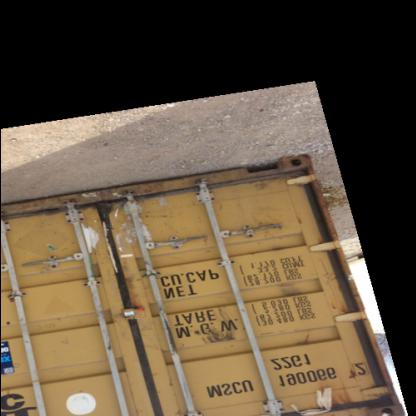Damage: (106, 186, 172, 268), (242, 205, 307, 240), (332, 380, 393, 414), (192, 304, 235, 350), (281, 322, 344, 352), (26, 316, 78, 351), (78, 201, 107, 258), (38, 224, 68, 271), (232, 168, 278, 194), (265, 278, 301, 306), (328, 287, 356, 319)
